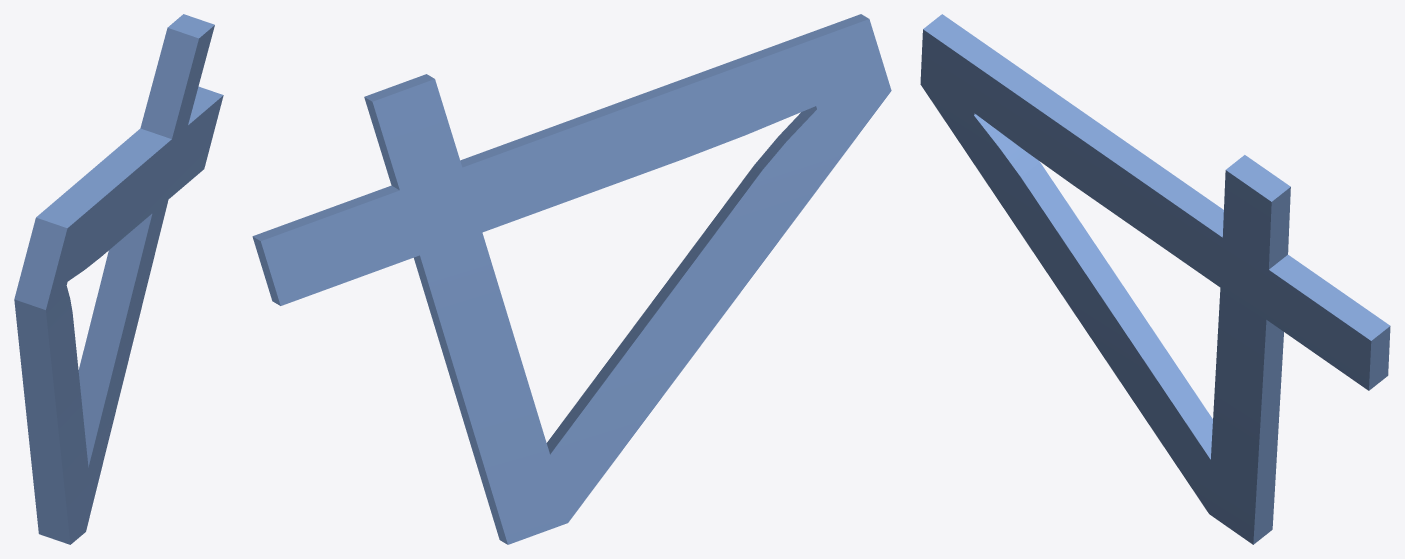
The model's file is New_Number_4.gltf.
The picture shows the model from 3 angles, left to right: view 1: azimuth 30°, elevation 25°; view 2: azimuth 150°, elevation 25°; view 3: azimuth 270°, elevation 25°; orthographic projection. The views are drawn at different scales.
Visible parts, largest first — view 1: Part 229; view 2: Part 229; view 3: Part 229.
Part boxes in pixels (left/top/right/bottom): Part 229: left=14, top=14, right=223, bottom=544; Part 229: left=252, top=14, right=891, bottom=544; Part 229: left=920, top=14, right=1390, bottom=544.
Size of the model in its own units: 0.00403 by 0.00421 by 0.00413.
